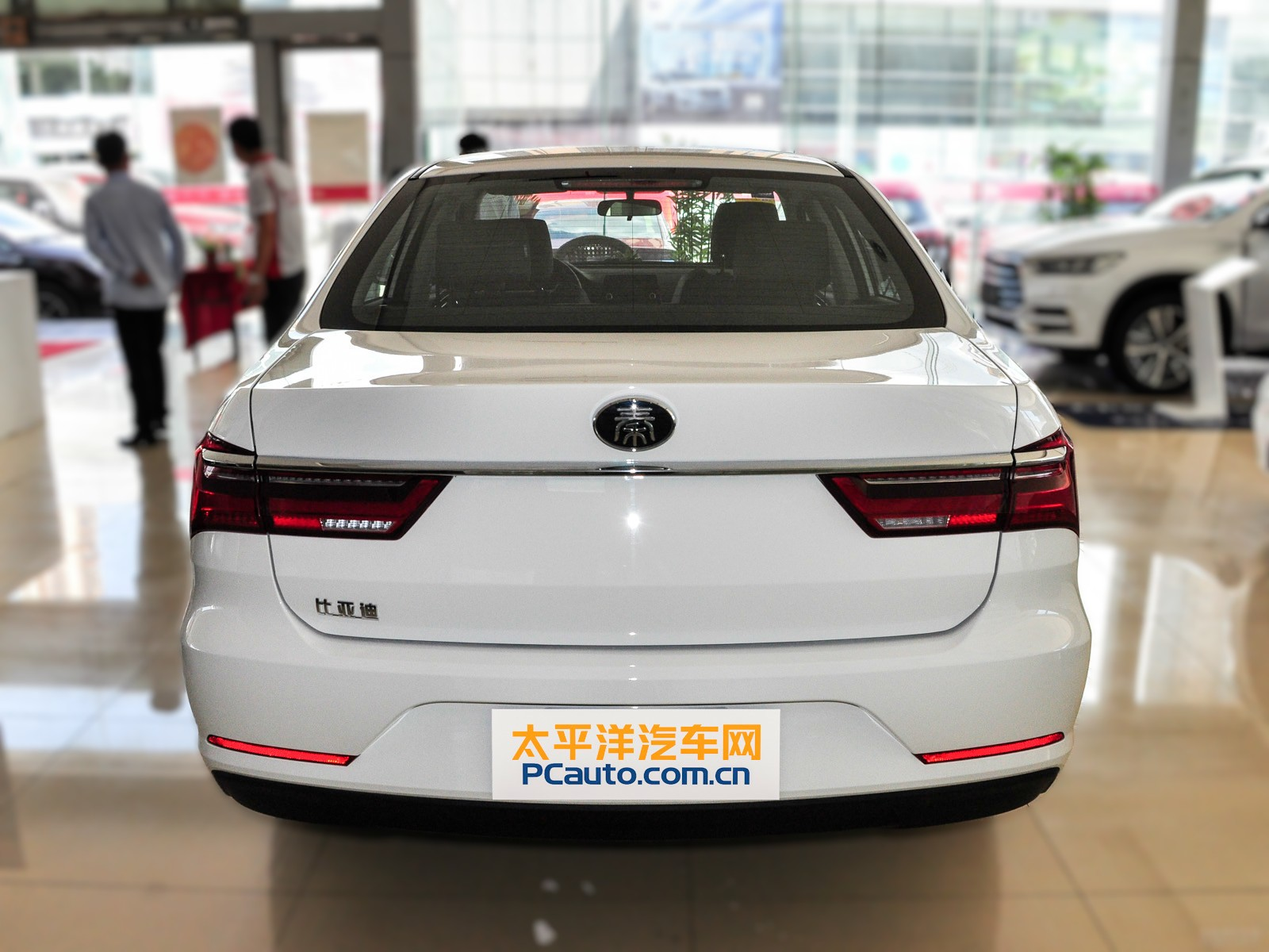BYD Qin: (593, 398, 676, 451)
